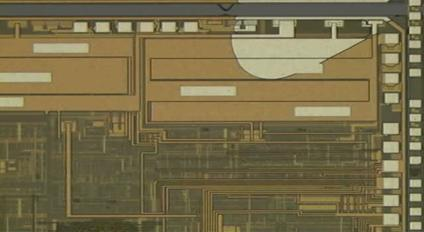COATING BAD: (231, 1, 415, 83)
